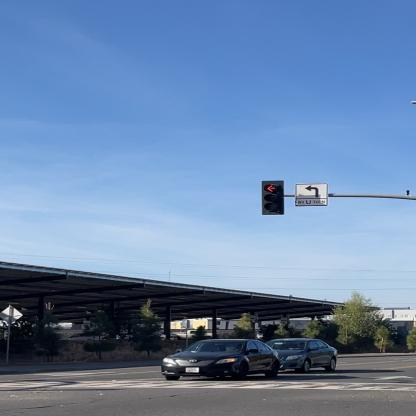left-red: (260, 179, 286, 216)
